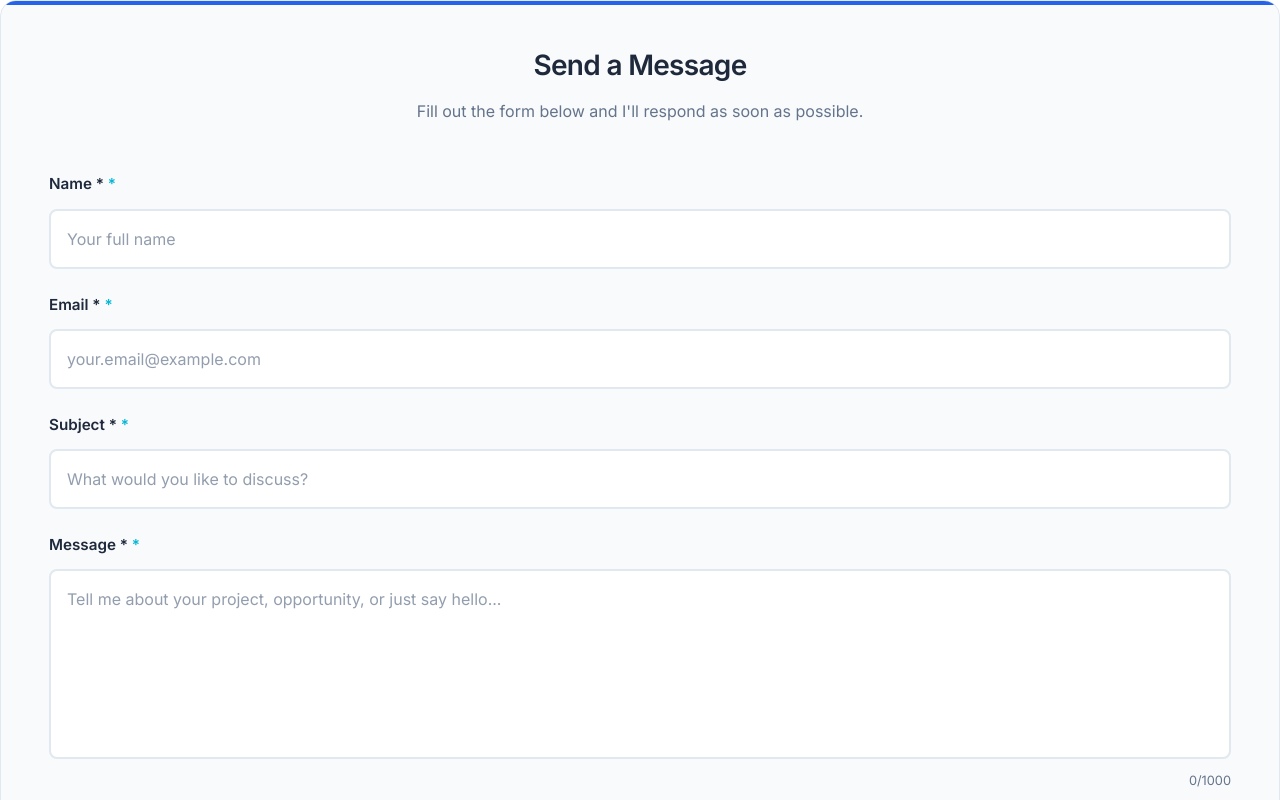
Test case: ContactForm › Form Field Validation › Name Field › should show error when name is empty on blur
Click the field labelled "Name *" at (640,238), box [49,208,1231,268]
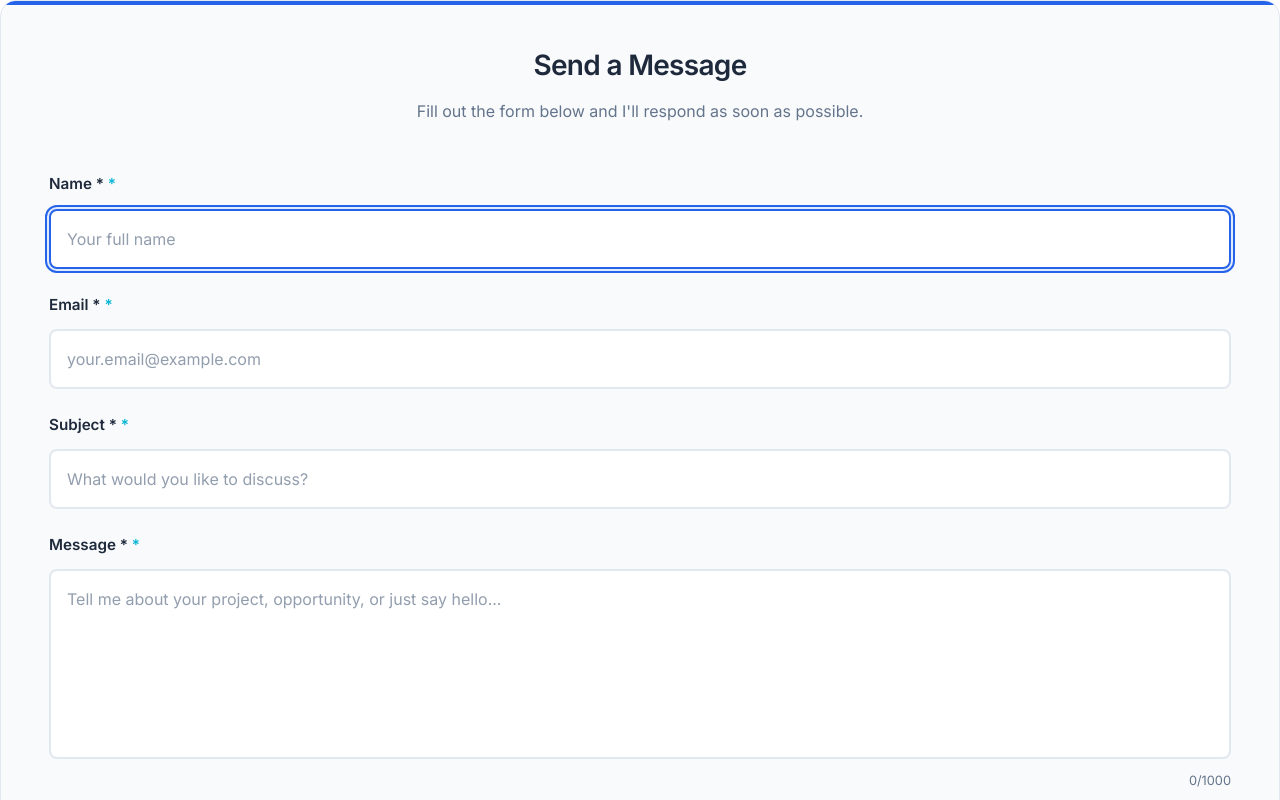
Press Tab
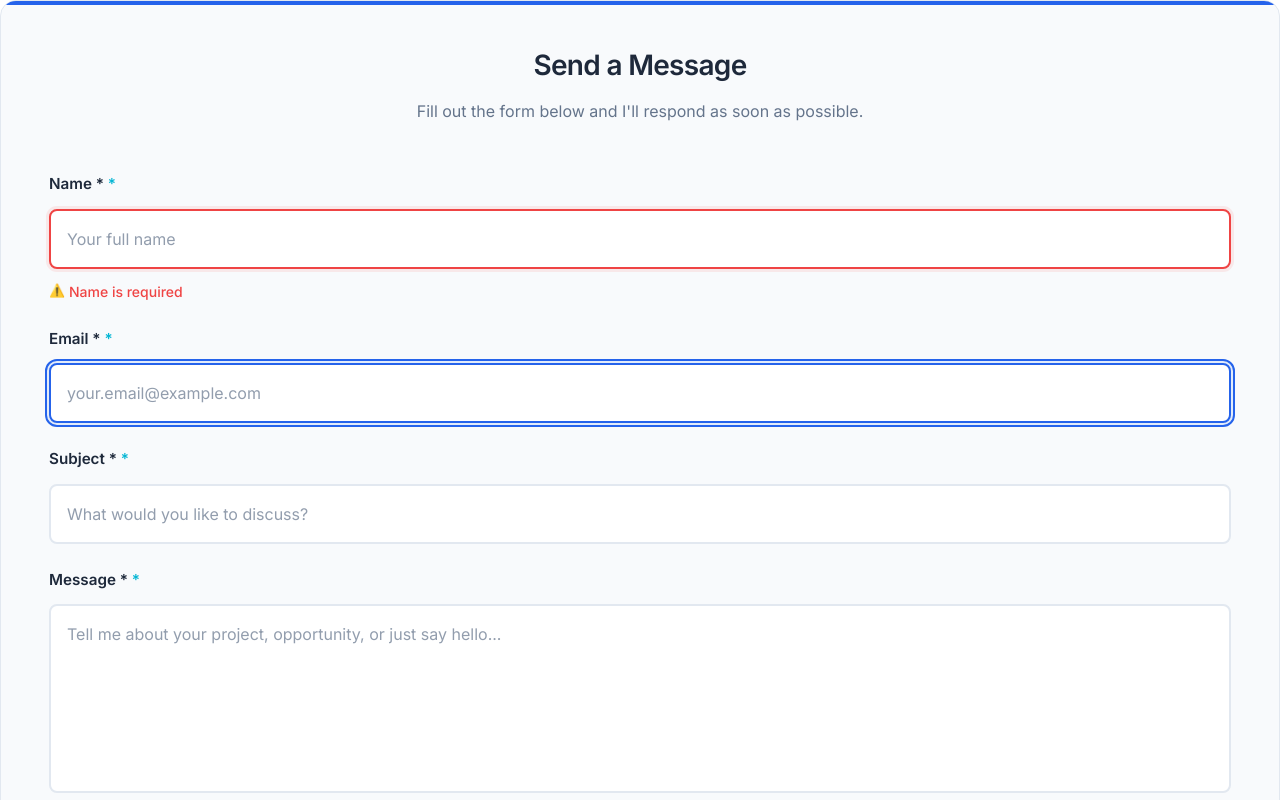
Check: the text "Name is required" is shown, box [69,282,183,300]
